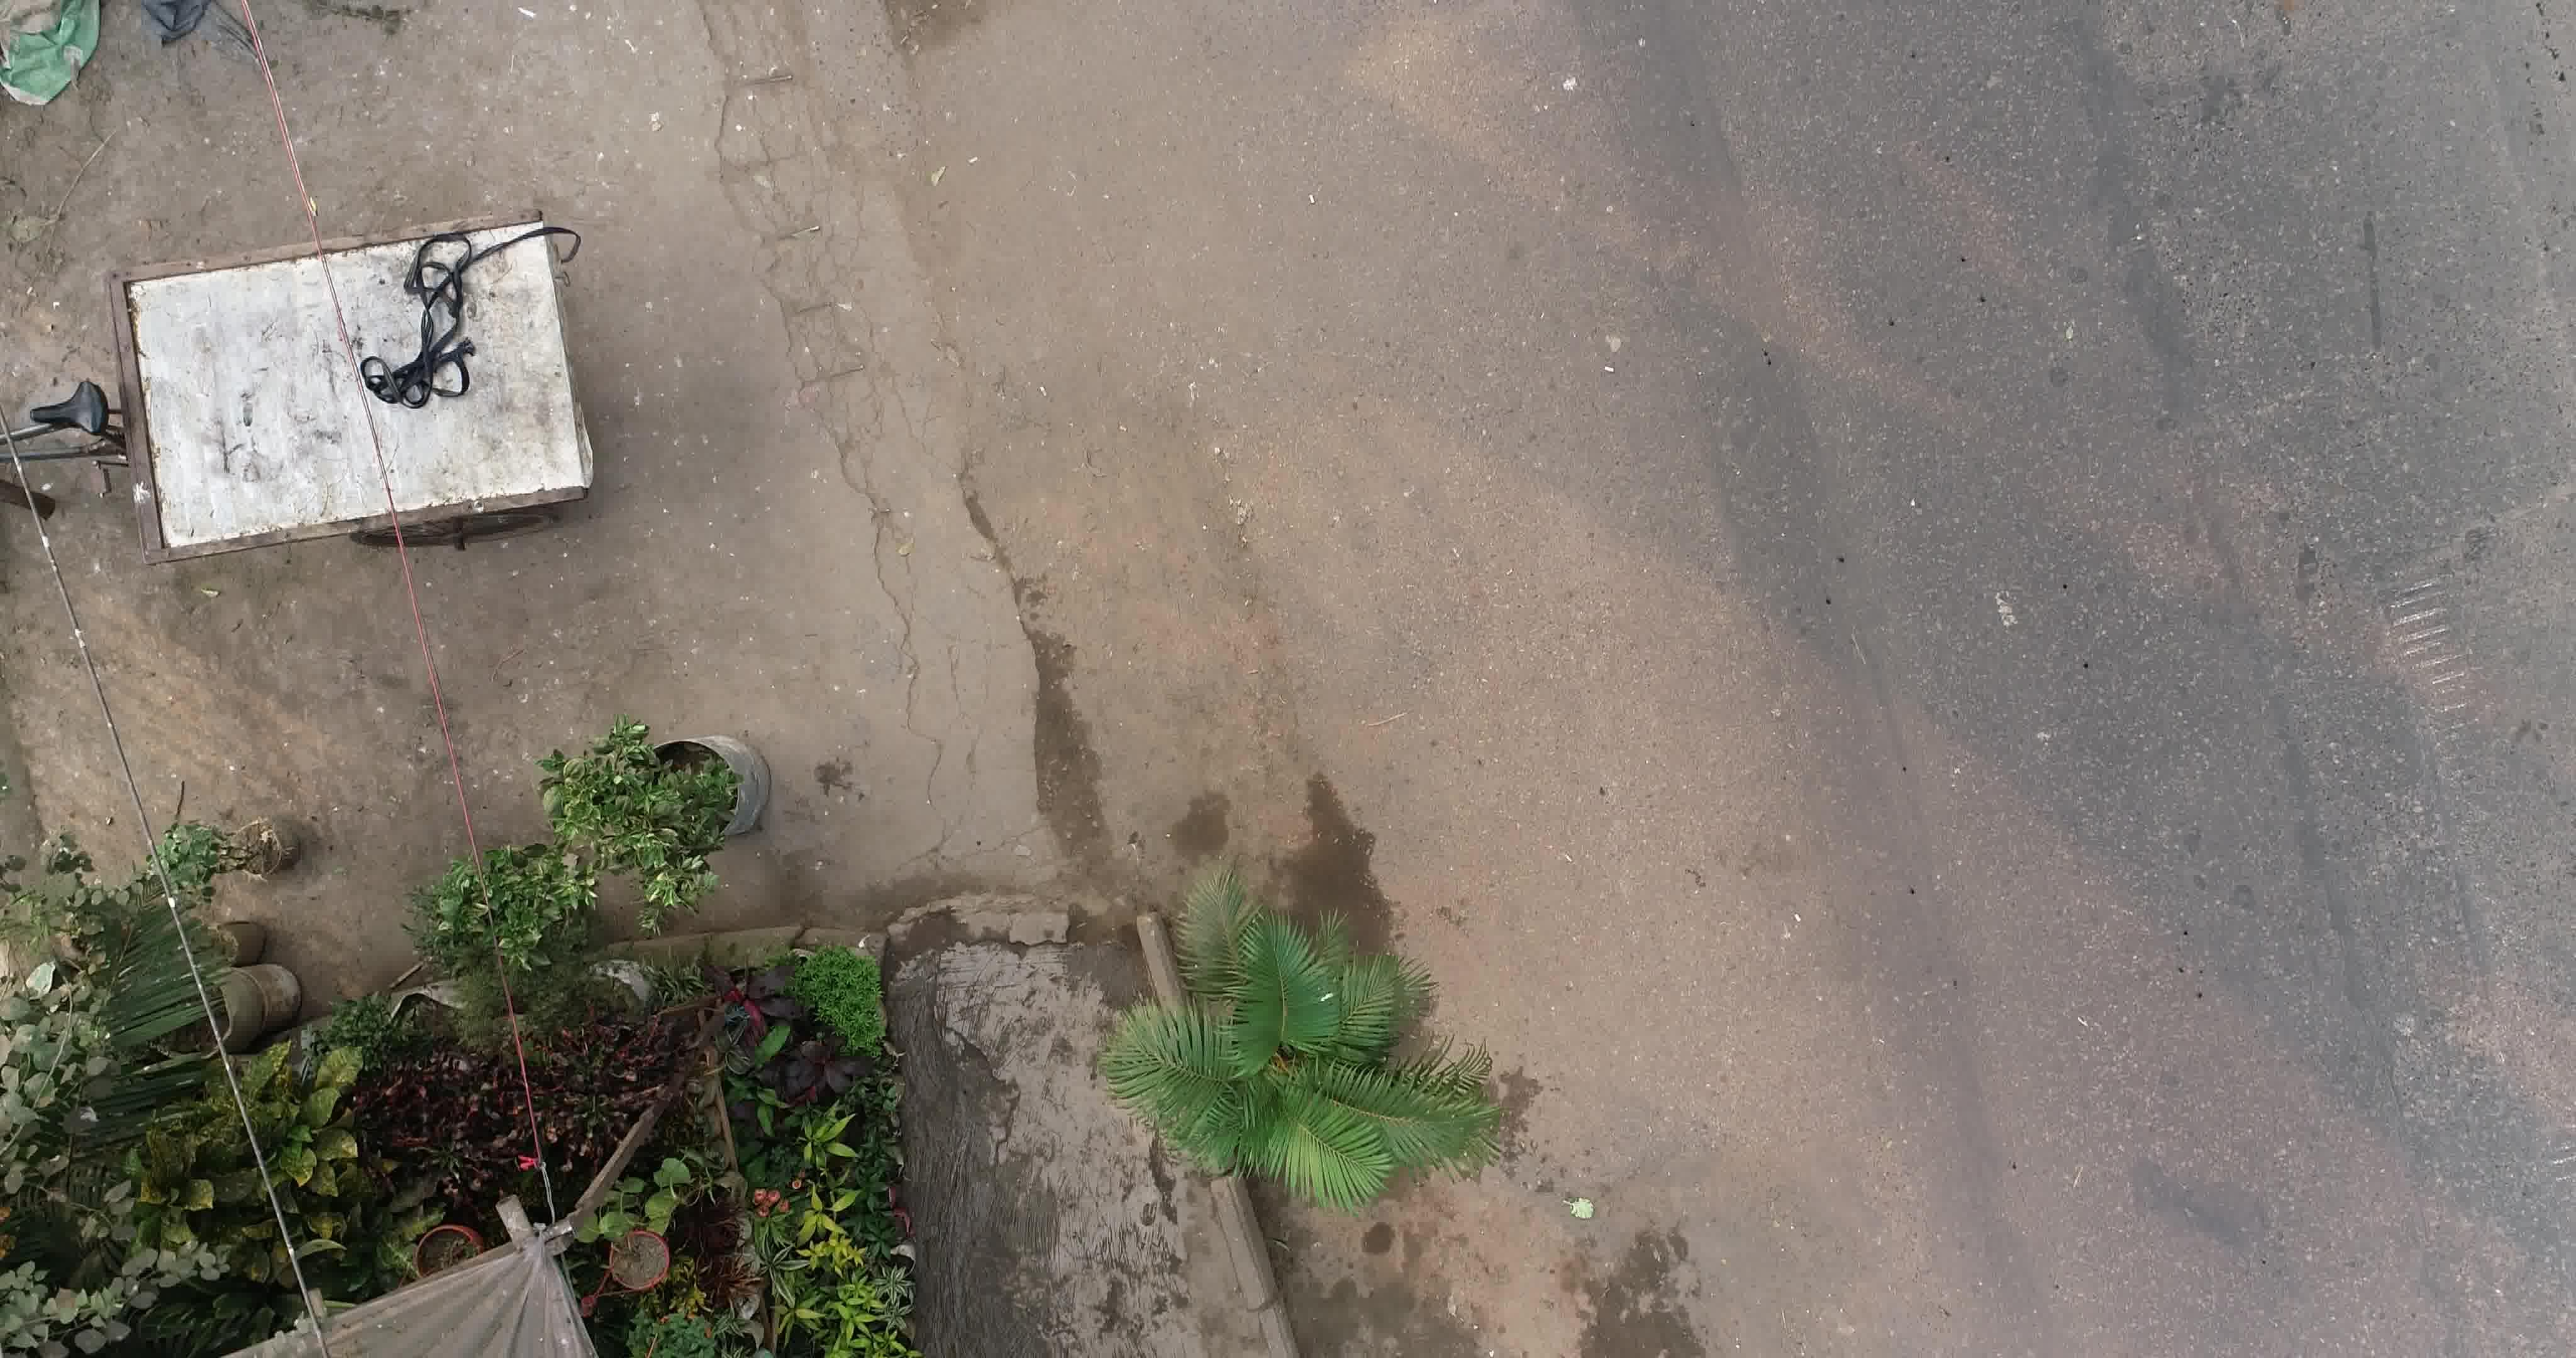manual-van: (0, 215, 593, 559), (235, 516, 235, 520)
